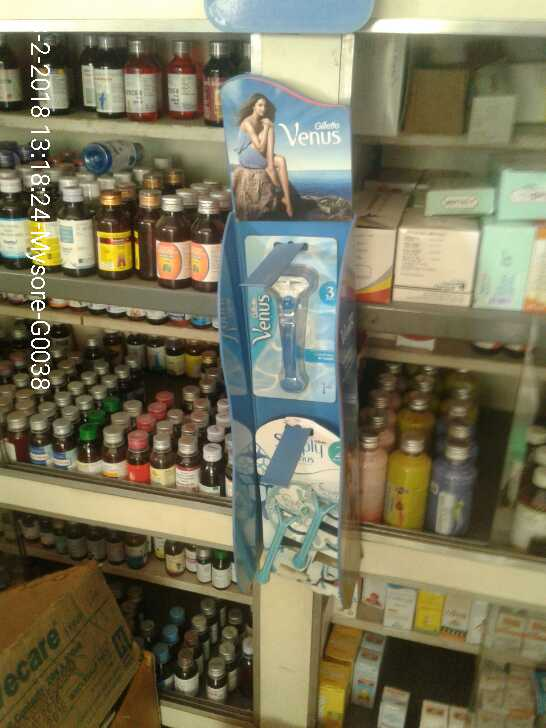venus: (243, 236, 335, 404), (253, 426, 344, 591)
